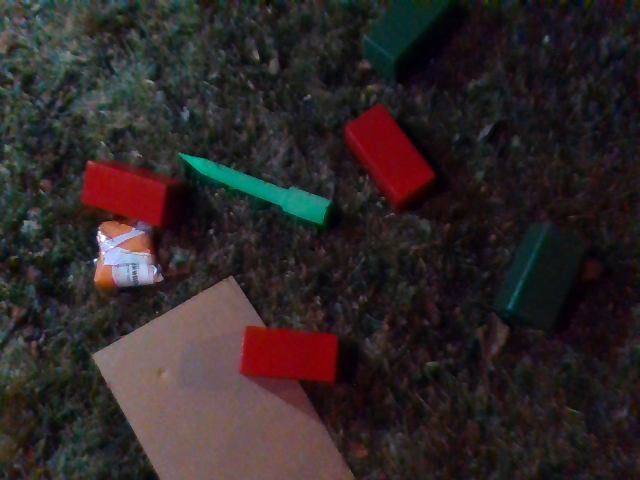Probe: (174, 145, 338, 227)
